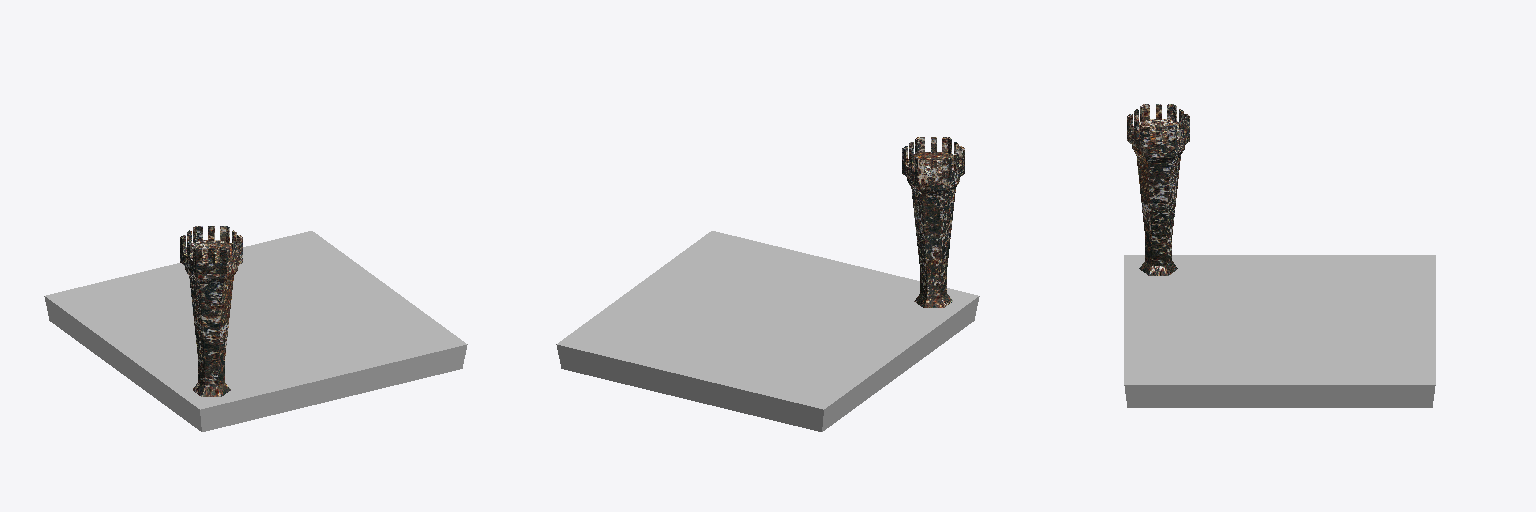
3 views of the same model, side by side, from view 1: azimuth 30°, elevation 25°; view 2: azimuth 150°, elevation 25°; view 3: azimuth 270°, elevation 25° (orthographic).
Visible parts, largest first — view 1: platform_Cube.001, torch_Cylinder.001; view 2: platform_Cube.001, torch_Cylinder.001; view 3: platform_Cube.001, torch_Cylinder.001.
Part boxes in pixels (left/top/right/bottom): platform_Cube.001: left=44, top=231, right=467, bottom=431; torch_Cylinder.001: left=180, top=226, right=242, bottom=396; platform_Cube.001: left=556, top=231, right=979, bottom=431; torch_Cylinder.001: left=902, top=137, right=964, bottom=307; platform_Cube.001: left=1124, top=255, right=1435, bottom=407; torch_Cylinder.001: left=1127, top=104, right=1189, bottom=275.
Size of the model in its own units: 3.82 by 2.43 by 3.85.
2 materials, 1 textured.